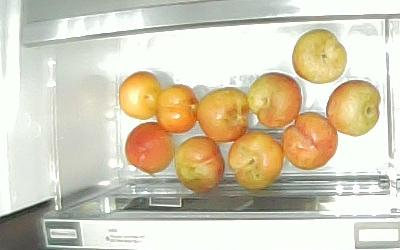prune: (229, 130, 283, 192), (281, 113, 338, 170), (248, 72, 303, 128), (327, 81, 382, 137), (173, 136, 225, 194), (293, 30, 347, 84), (197, 88, 248, 143), (125, 122, 174, 173), (155, 85, 198, 134), (121, 71, 159, 120)
